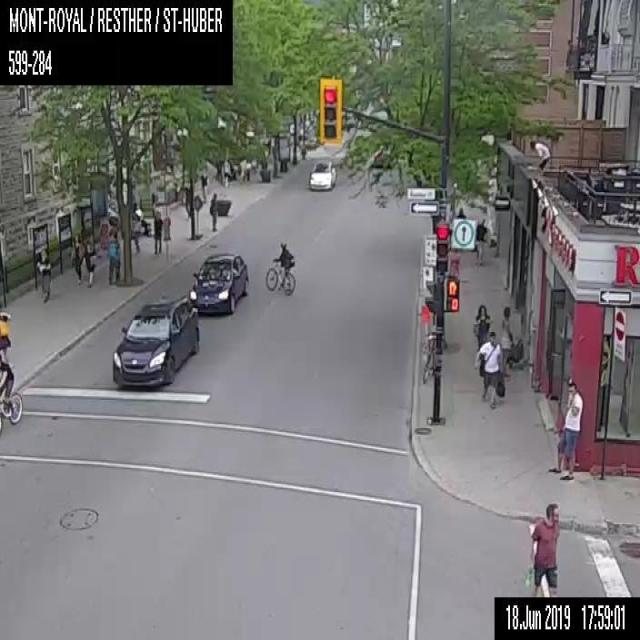cyclist: (0, 351, 23, 429), (264, 240, 296, 295)
pedestrian: (523, 502, 560, 596), (548, 377, 582, 479), (474, 331, 505, 409), (500, 306, 522, 380), (547, 396, 565, 468), (34, 248, 51, 303), (472, 304, 491, 350), (84, 237, 98, 286), (71, 234, 85, 282), (106, 233, 119, 284), (474, 217, 488, 264), (0, 312, 11, 361), (131, 213, 144, 254), (152, 207, 162, 254), (209, 191, 218, 231), (200, 168, 208, 202), (456, 206, 466, 216)
vehicle: (111, 295, 199, 392), (189, 252, 248, 314), (309, 160, 336, 190)
